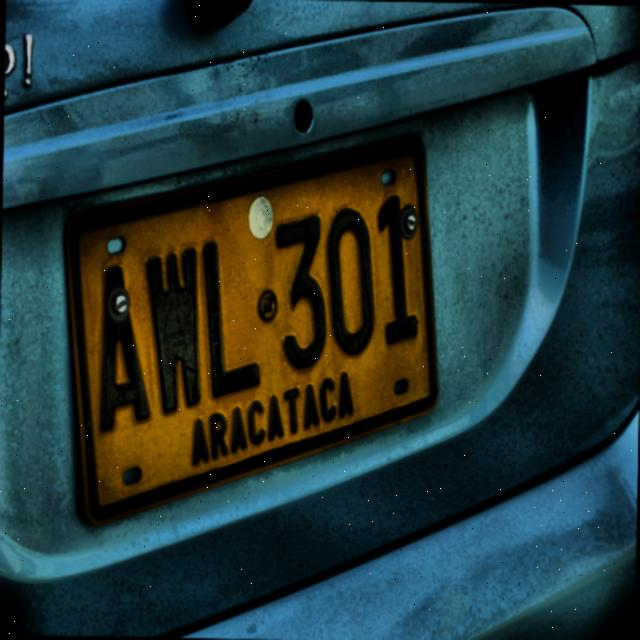plate: (65, 134, 438, 528)
